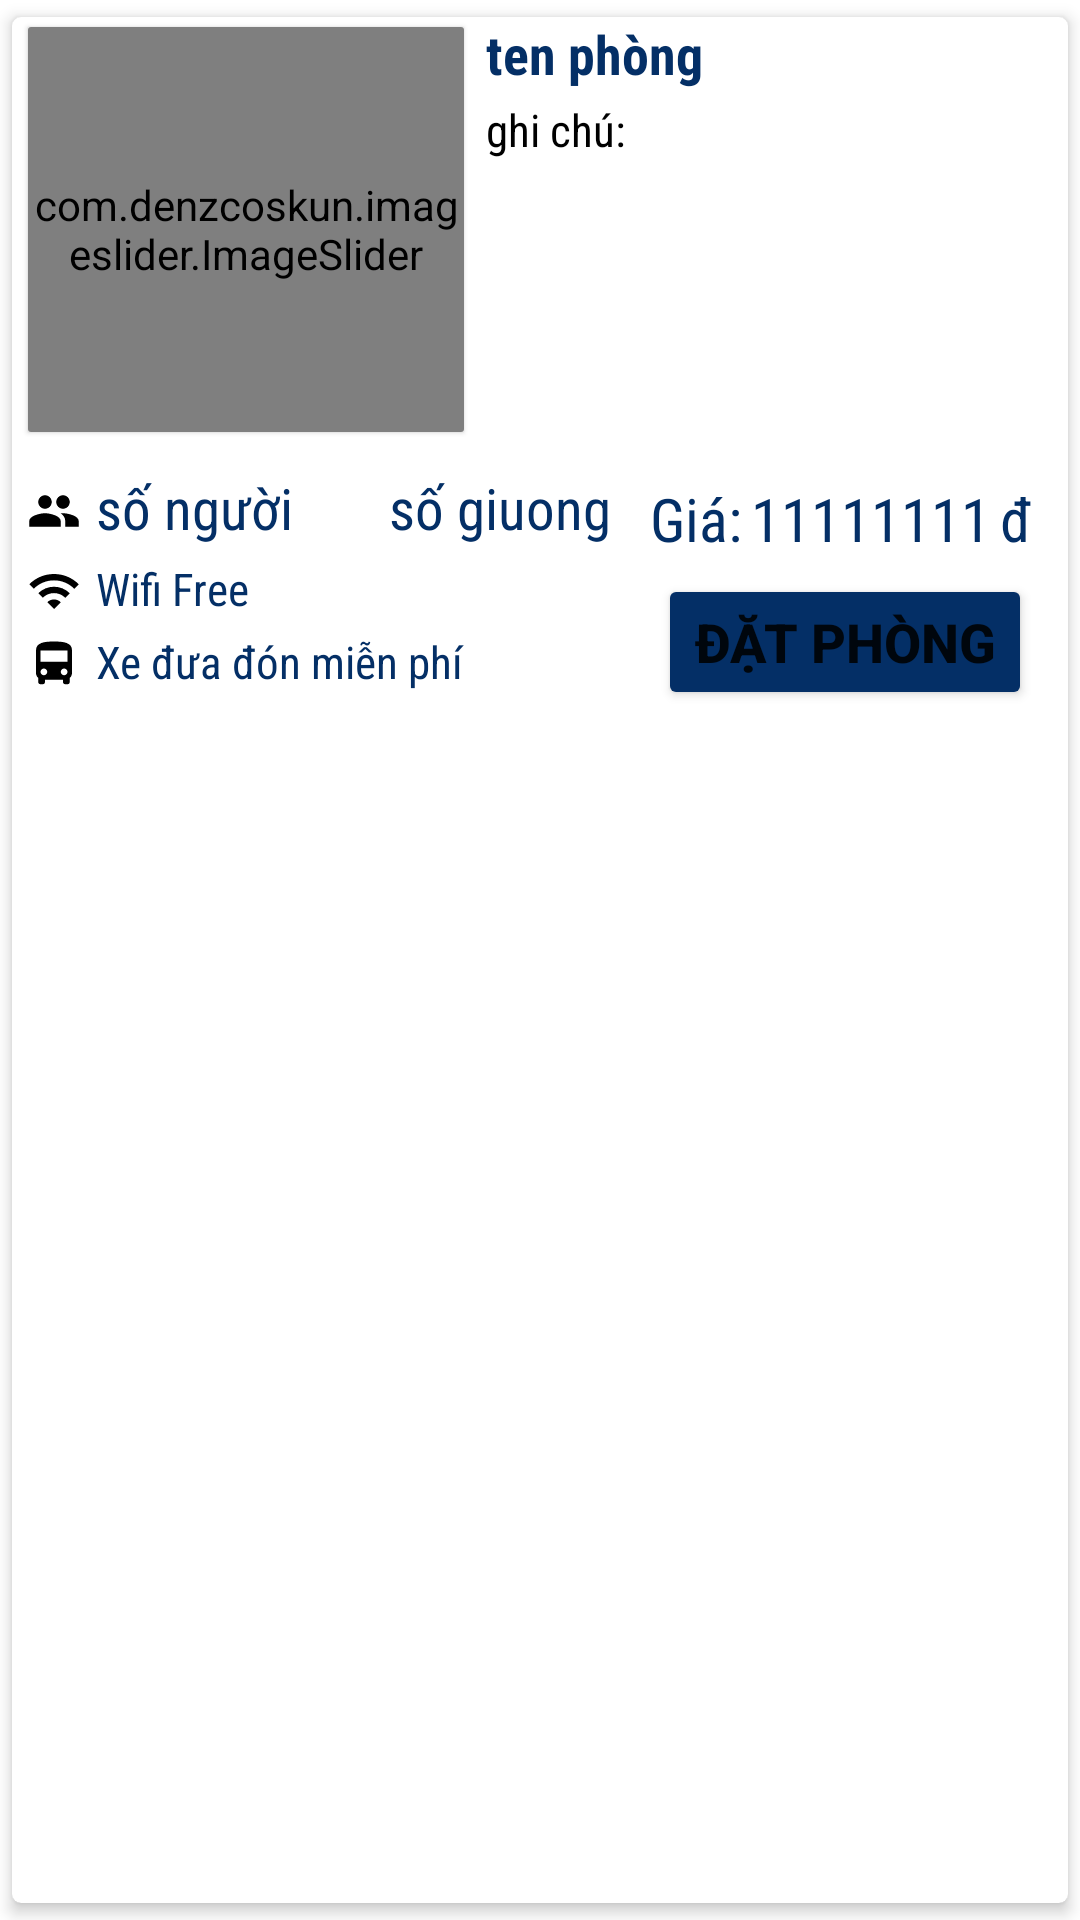

Icon click points for this 1080px x 1920px phone screenshot, format (x,y):
bus: (54,663)
people: (54,511)
